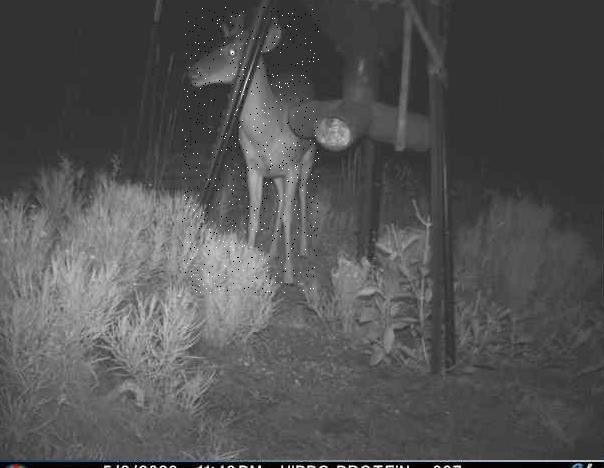Deer: (183, 8, 320, 294)
